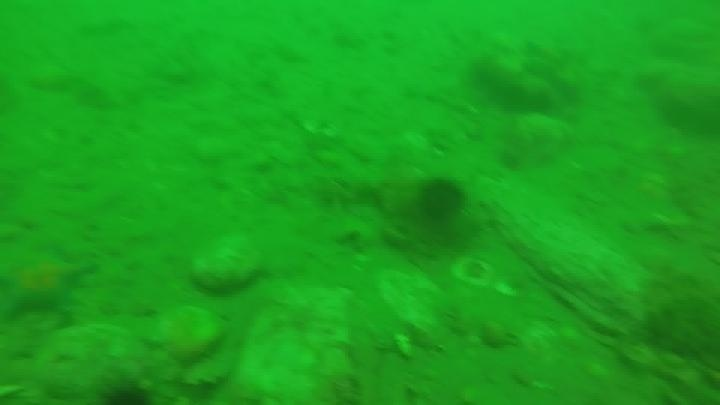echinus: (416, 177, 467, 225), (97, 379, 155, 405)
starfish: (1, 244, 97, 324)
